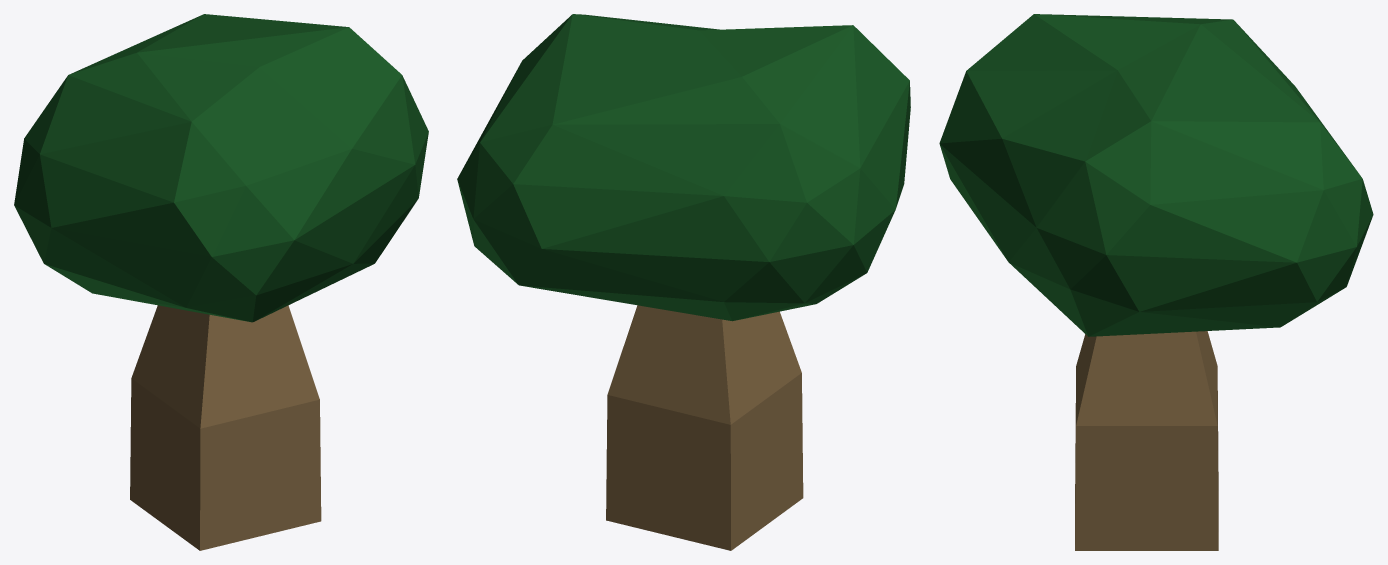
The model's file is tree_green_04.fbx.
The picture shows the model from 3 angles, left to right: view 1: azimuth 30°, elevation 25°; view 2: azimuth 150°, elevation 25°; view 3: azimuth 270°, elevation 25°; orthographic projection. The views are drawn at different scales.
Parts seen in each view (by area): view 1: Icosphere.042, Cube.007; view 2: Icosphere.042, Cube.007; view 3: Icosphere.042, Cube.007.
Boxes of the visible parts, left/top/right/bottom form: Icosphere.042: left=14, top=14, right=428, bottom=322; Cube.007: left=130, top=305, right=321, bottom=550; Icosphere.042: left=457, top=14, right=910, bottom=321; Cube.007: left=606, top=305, right=803, bottom=550; Icosphere.042: left=939, top=14, right=1373, bottom=336; Cube.007: left=1075, top=331, right=1218, bottom=550.
Size of the model in its own units: 864 by 1032 by 873.
